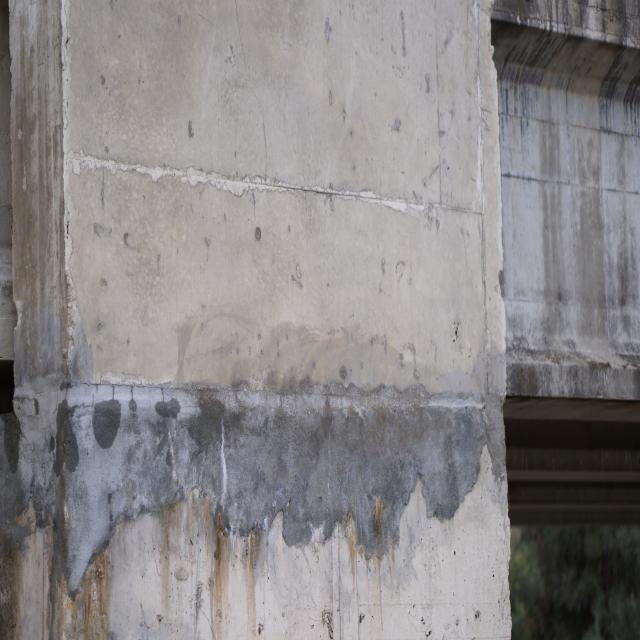corrosion: (150, 491, 277, 640), (332, 489, 418, 640), (62, 541, 118, 640)
